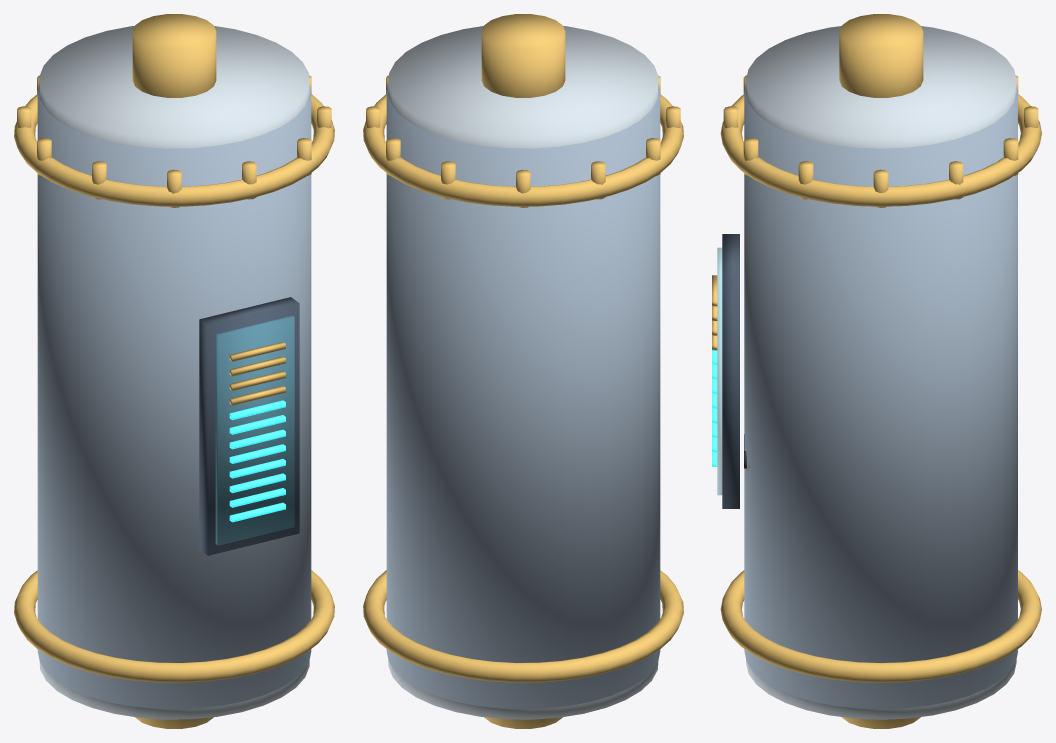
The model's file is 69_L89_ShelterOxygenBufferInterface.glb.
3 views of the same model, side by side, from view 1: azimuth 30°, elevation 25°; view 2: azimuth 150°, elevation 25°; view 3: azimuth 270°, elevation 25° (orthographic).
Parts seen in each view (by area): view 1: L87_ShelterOxygenBufferInterf_Part_0000, L87_ShelterOxygenBufferInterf_Part_0002, L87_ShelterOxygenBufferInterf_Part_0001, L87_ShelterOxygenBufferInterf_Part_0003, L87_ShelterOxygenBufferInterf_Part_0004, L87_ShelterOxygenBufferInterf_Part_0005, L87_ShelterOxygenBufferInterf_Part_0006; view 2: L87_ShelterOxygenBufferInterf_Part_0000, L87_ShelterOxygenBufferInterf_Part_0002, L87_ShelterOxygenBufferInterf_Part_0001; view 3: L87_ShelterOxygenBufferInterf_Part_0000, L87_ShelterOxygenBufferInterf_Part_0002, L87_ShelterOxygenBufferInterf_Part_0001, L87_ShelterOxygenBufferInterf_Part_0003, L87_ShelterOxygenBufferInterf_Part_0004, L87_ShelterOxygenBufferInterf_Part_0005.
Boxes of the visible parts, box(x1,y1,x2,y2) form: L87_ShelterOxygenBufferInterf_Part_0000: box(37, 84, 311, 709); L87_ShelterOxygenBufferInterf_Part_0002: box(14, 14, 334, 728); L87_ShelterOxygenBufferInterf_Part_0001: box(39, 26, 309, 719); L87_ShelterOxygenBufferInterf_Part_0003: box(199, 297, 299, 555); L87_ShelterOxygenBufferInterf_Part_0004: box(215, 315, 294, 545); L87_ShelterOxygenBufferInterf_Part_0005: box(229, 400, 285, 522); L87_ShelterOxygenBufferInterf_Part_0006: box(229, 342, 285, 405); L87_ShelterOxygenBufferInterf_Part_0000: box(386, 84, 660, 709); L87_ShelterOxygenBufferInterf_Part_0002: box(363, 14, 683, 728); L87_ShelterOxygenBufferInterf_Part_0001: box(388, 26, 658, 719); L87_ShelterOxygenBufferInterf_Part_0000: box(744, 85, 1017, 709); L87_ShelterOxygenBufferInterf_Part_0002: box(720, 14, 1041, 728); L87_ShelterOxygenBufferInterf_Part_0001: box(746, 26, 1016, 719); L87_ShelterOxygenBufferInterf_Part_0003: box(722, 234, 739, 508); L87_ShelterOxygenBufferInterf_Part_0004: box(717, 247, 722, 495); L87_ShelterOxygenBufferInterf_Part_0005: box(712, 350, 717, 466).
Size of the model in its own units: 1.46 by 3.4 by 1.49.
